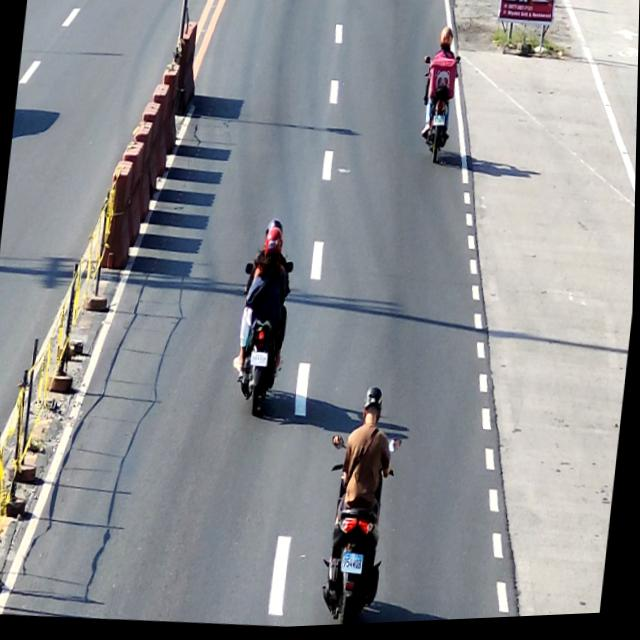License-Plate: (343, 554, 366, 579), (250, 354, 270, 370), (432, 119, 446, 131)
Motorcycle: (313, 432, 404, 629), (231, 259, 295, 422), (413, 56, 461, 170)
